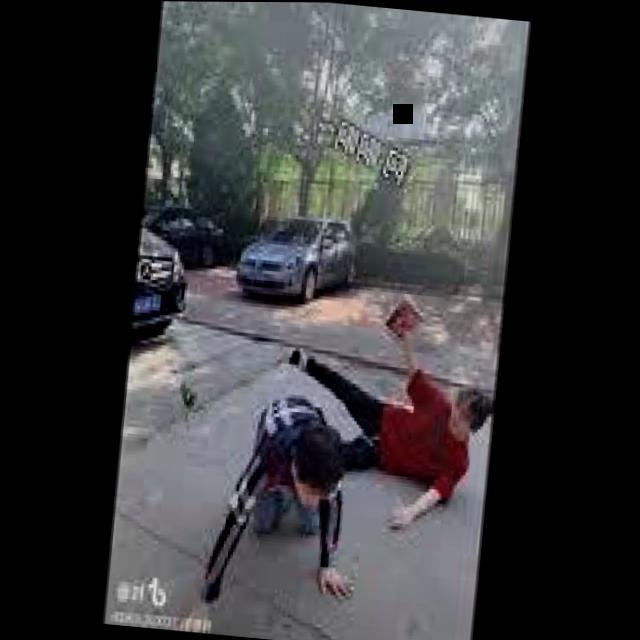Fall-Detected: (182, 379, 374, 640)
